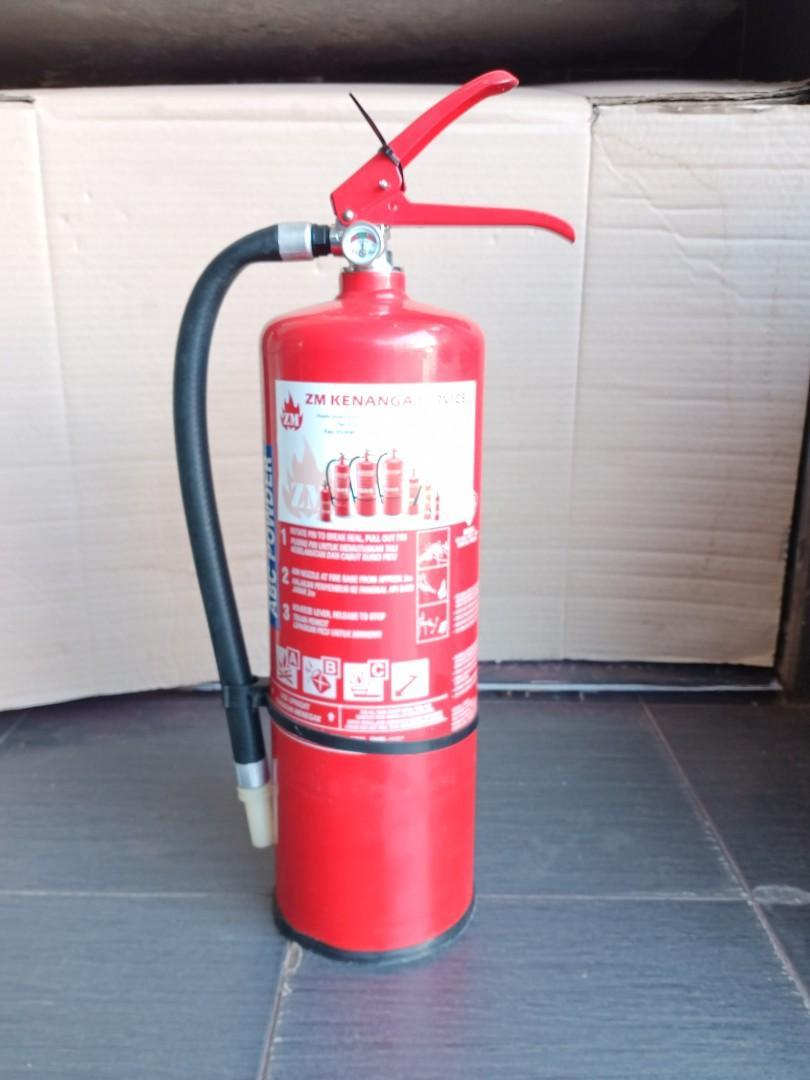floor-kept: (167, 79, 619, 1024)
